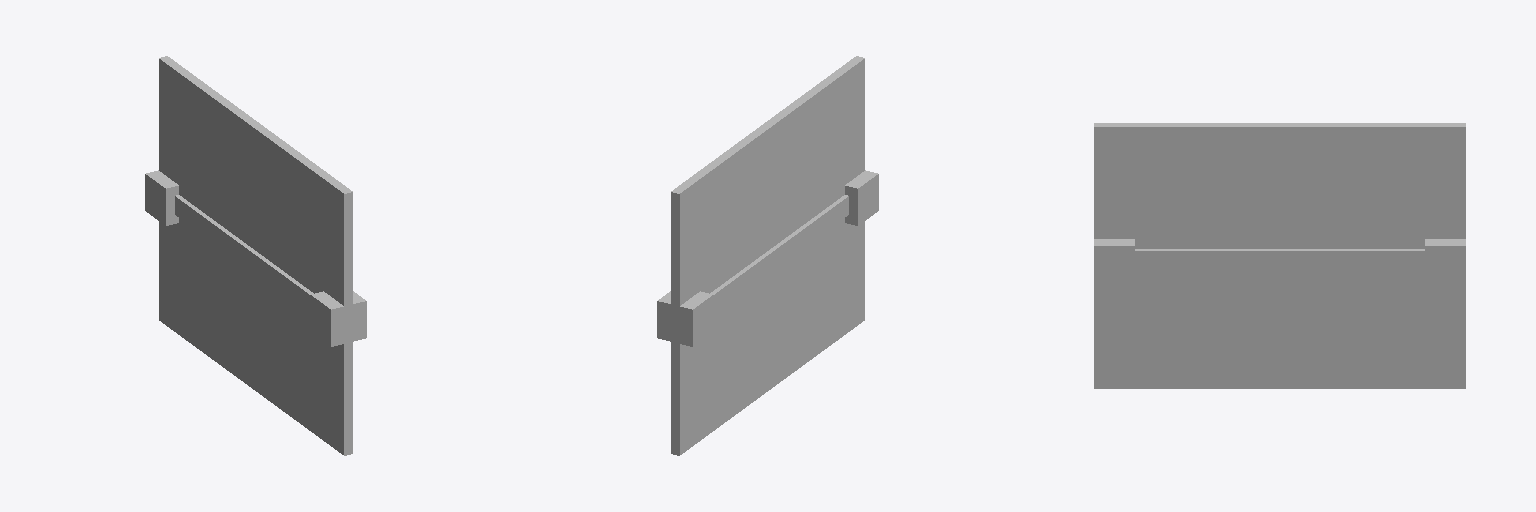
The model's file is radiator_vertical.obj.
3 views of the same model, side by side, from view 1: azimuth 30°, elevation 25°; view 2: azimuth 150°, elevation 25°; view 3: azimuth 270°, elevation 25° (orthographic).
Parts seen in each view (by area): view 1: radiator, radiator_ports; view 2: radiator, radiator_ports; view 3: radiator, radiator_ports.
Boxes of the visible parts, x1,y1,x2,y2 form: radiator: [159, 56, 352, 455]; radiator_ports: [145, 170, 366, 346]; radiator: [671, 56, 864, 455]; radiator_ports: [657, 170, 878, 346]; radiator: [1094, 123, 1465, 388]; radiator_ports: [1094, 239, 1465, 282].
Bounding box in the file's own units: 1 × 7 × 9.